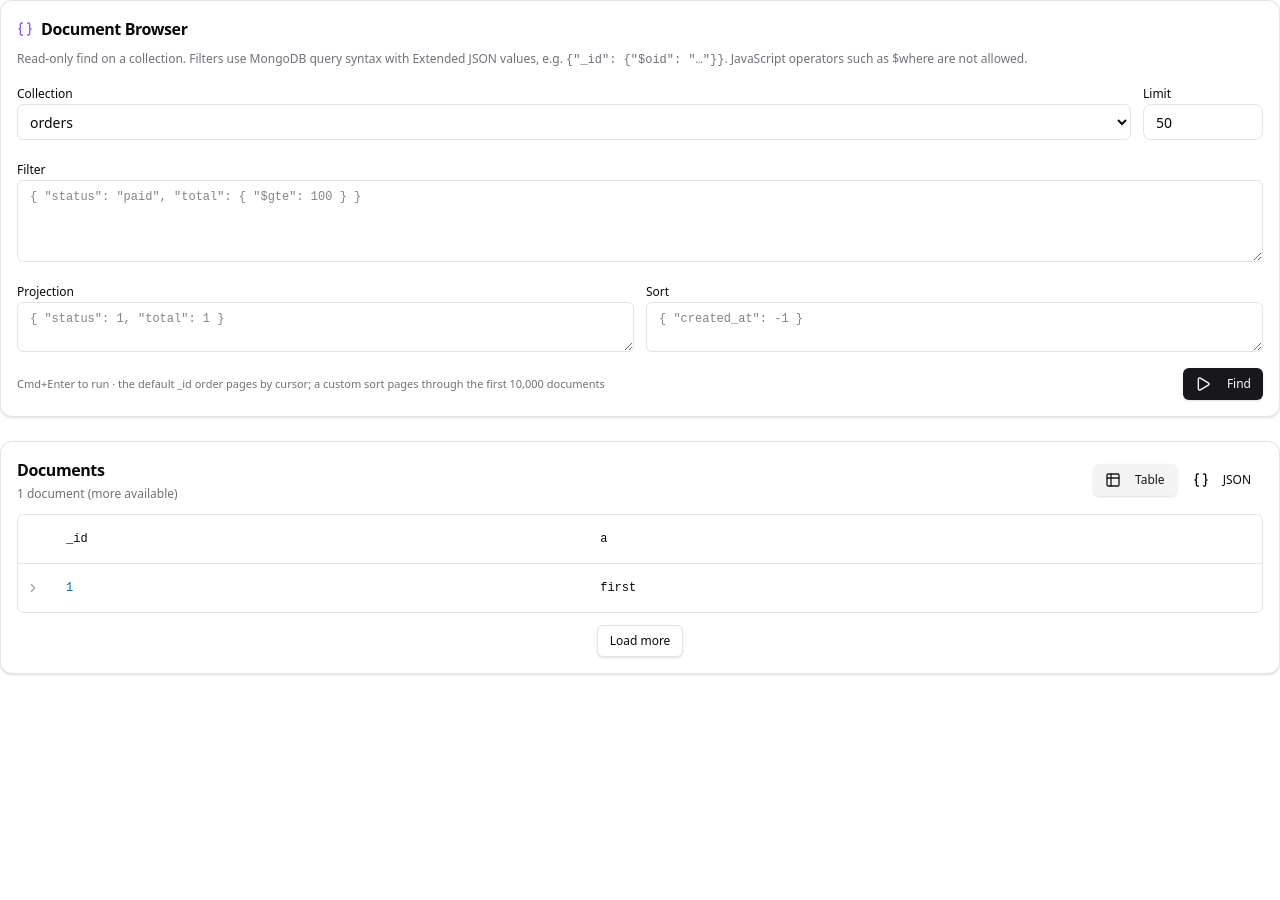
Test: DocumentExplorer › pages with the returned cursor and appends the next page
Click the button "Load more": (640,640) x1=597 y1=624 x2=683 y2=656
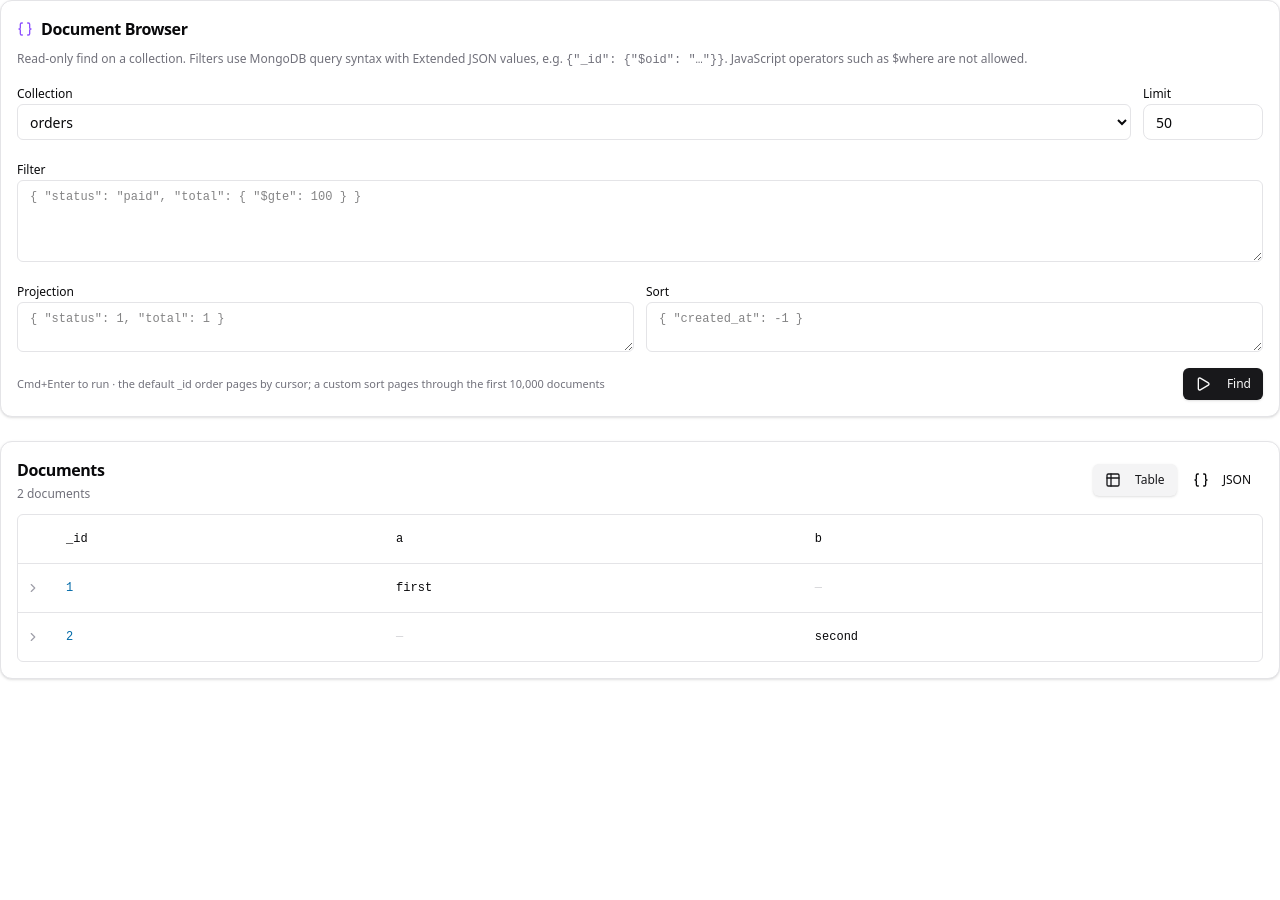
Now the number of rows with test id "doc-row" is 2, box x1=18 y1=563 x2=1262 y2=612; x1=18 y1=612 x2=1262 y2=660
Now the text "second" is shown, box x1=799 y1=612 x2=1262 y2=660
Now the button "Load more" is gone
